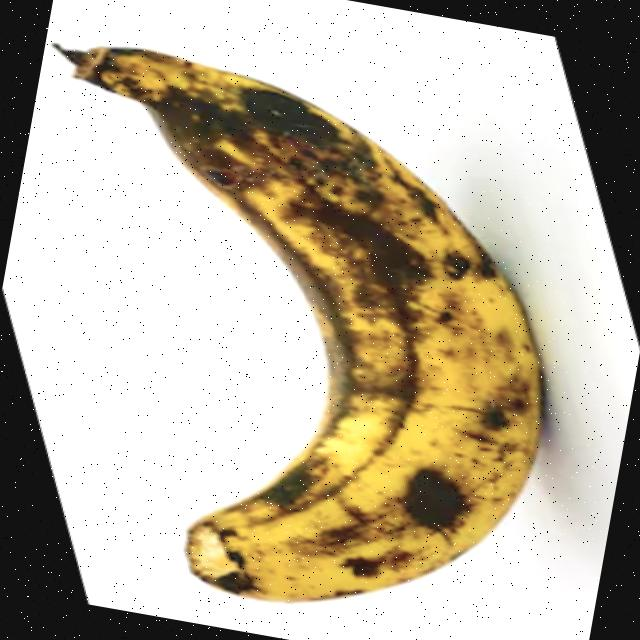overripe: (0, 30, 598, 640)
